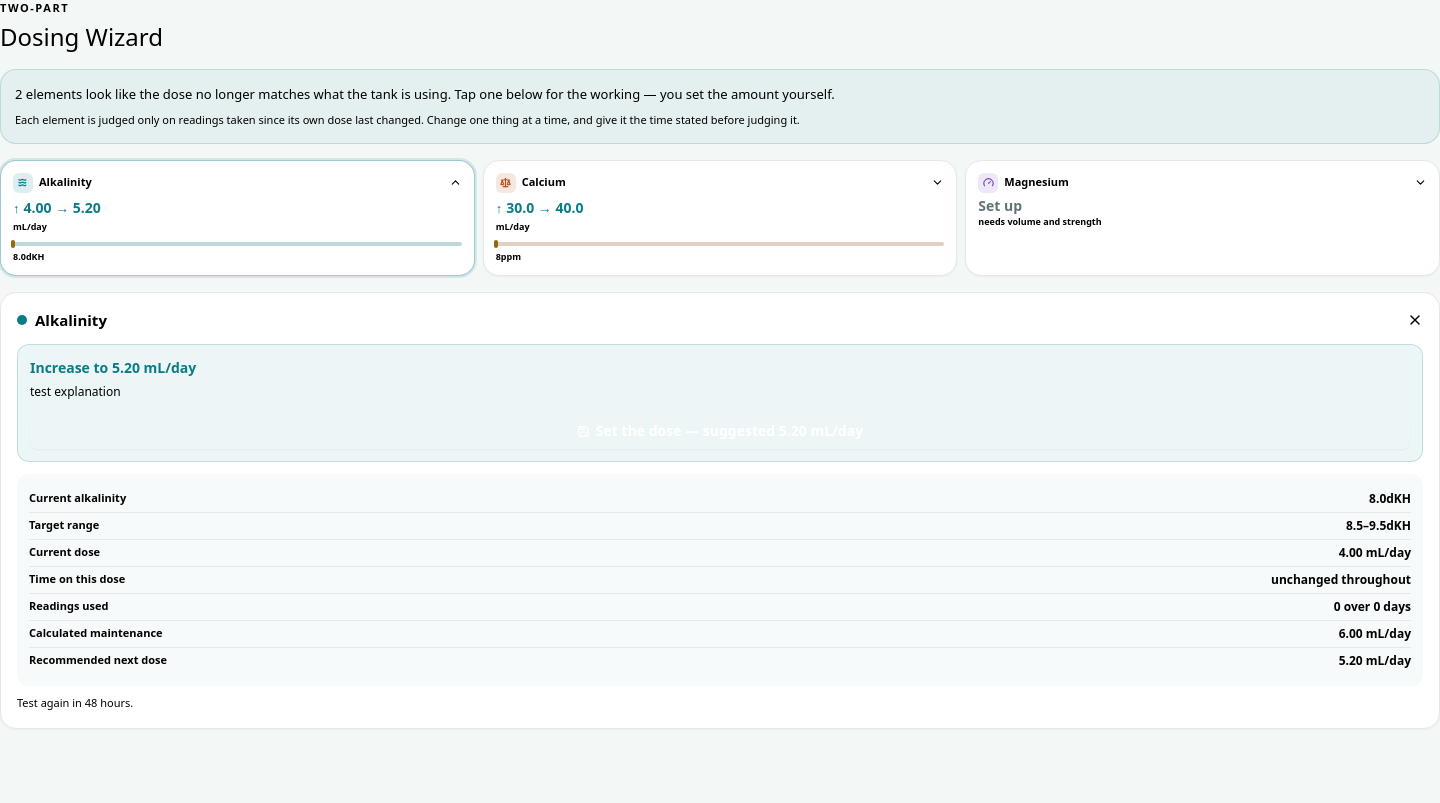
Test: DosingWizard — element switch remounts the active-element panel (adjudicated #7/#11) › does not carry a stale mL amount across an element switch mid-dose-sheet
// The wizard opens on the first element that needs attention: alkalinity.
Click the button "Set the dose — suggested 5.20 mL/day" at (720, 431), box [30,413,1410,449]
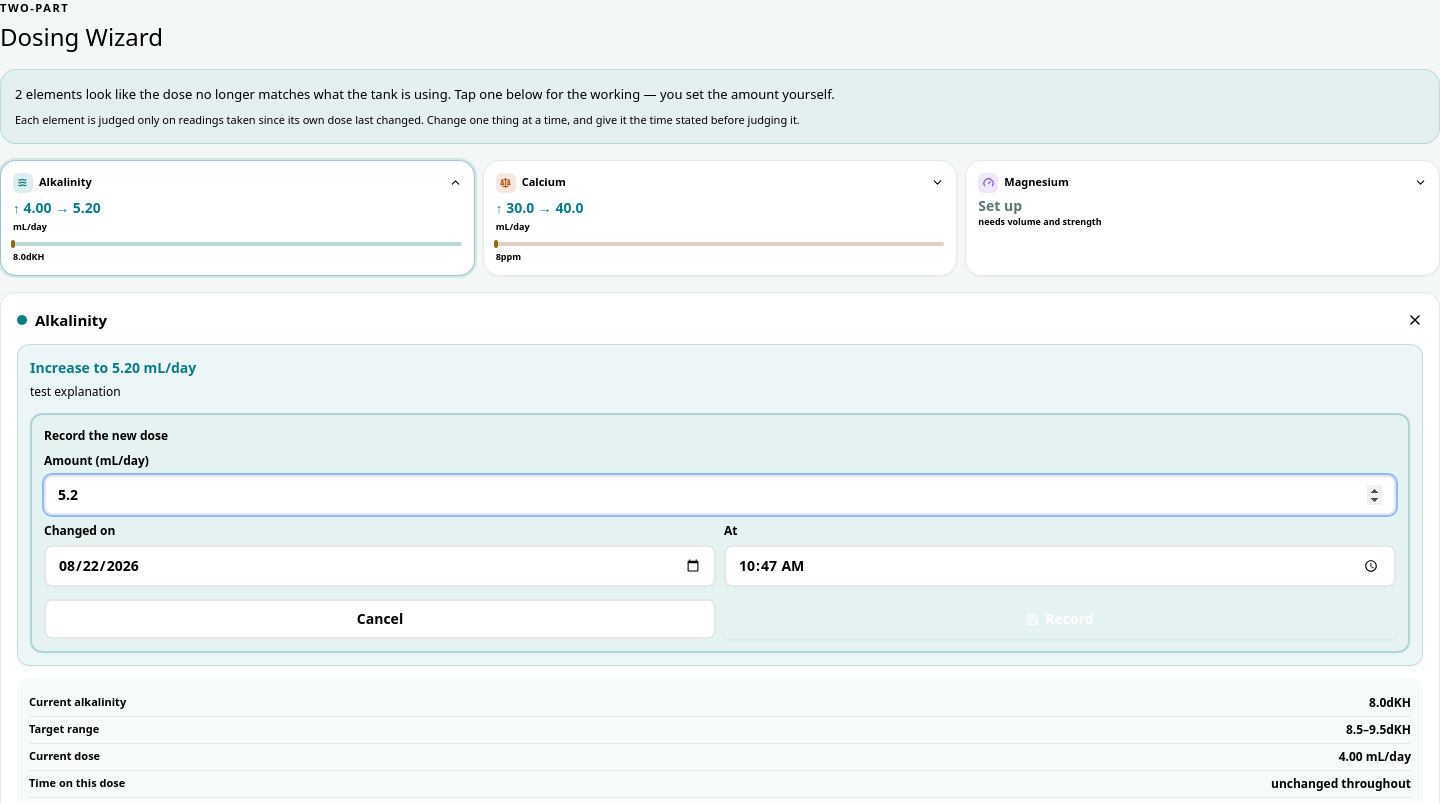
Expected: the number field labelled "Amount (mL/day)" holds "5.2", [44,475,1396,515]
// Switch to calcium WITHOUT closing the dose-change sheet first.
Click the text "Calcium" at (544, 182), box [522,174,566,189]
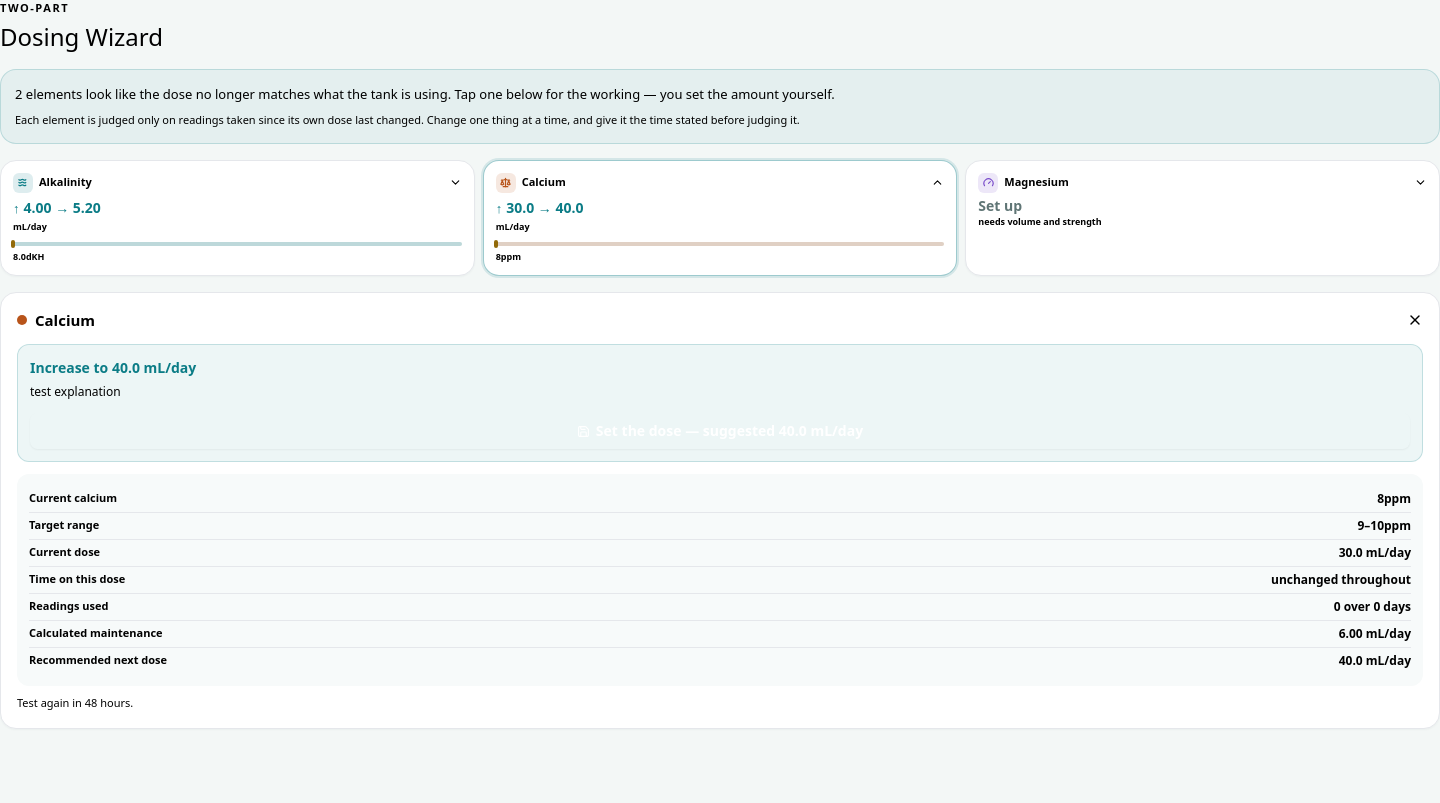
Click the button "Set the dose — suggested 40.0 mL/day" at (720, 431), box [30,413,1410,449]
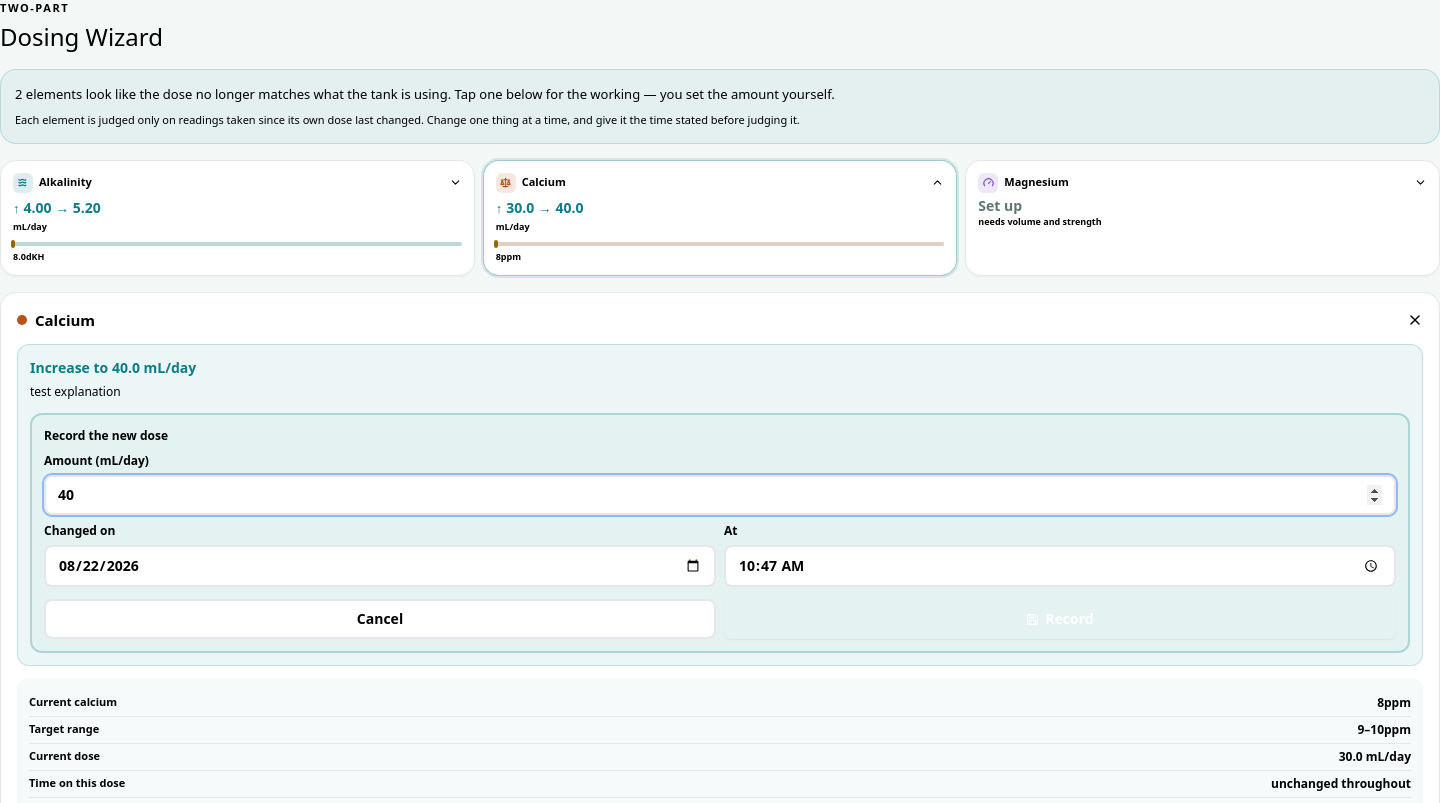
Expected: the number field labelled "Amount (mL/day)" holds "40", [44,475,1396,515]
